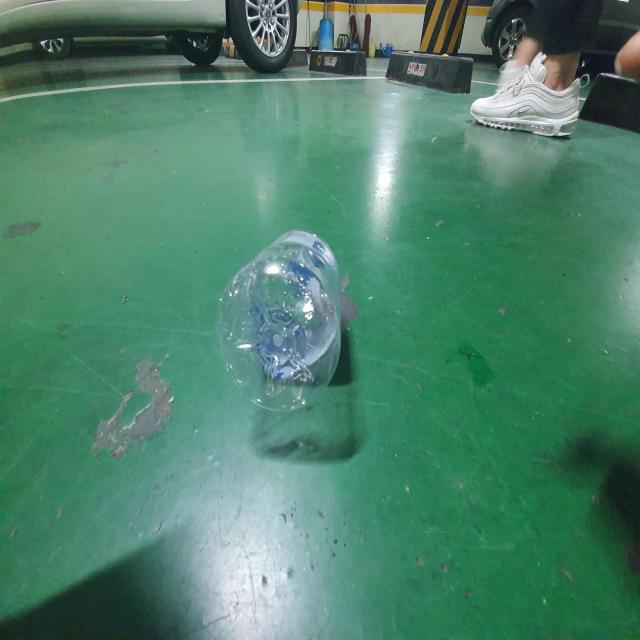plastic: (216, 230, 341, 411)
